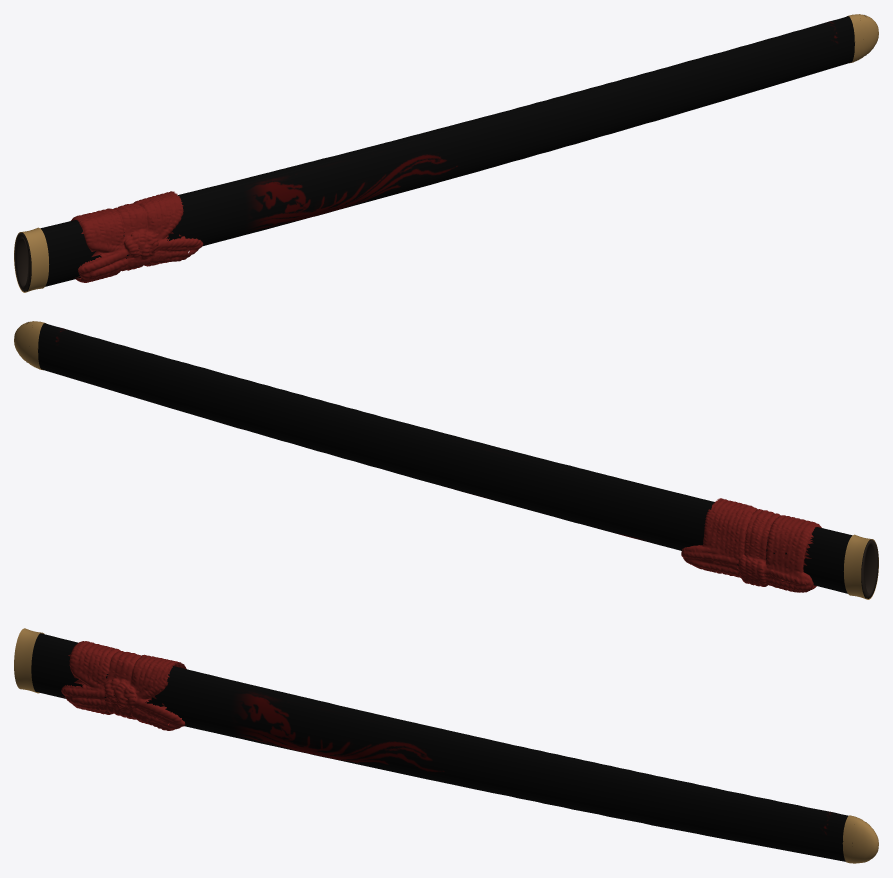
Rendered from ronin-saya-v03.glb.
The picture shows the model from 3 angles, top to bottom: view 1: azimuth 30°, elevation 25°; view 2: azimuth 150°, elevation 25°; view 3: azimuth 330°, elevation 25°; orthographic projection.
Parts seen in each view (by area): view 1: Saya v03 | smooth shell.007, Saya v03 | original cord.007, Saya v03 | mouth fitting.007, Saya v03 | tip fitting.007; view 2: Saya v03 | smooth shell.007, Saya v03 | original cord.007, Saya v03 | mouth fitting.007, Saya v03 | tip fitting.007; view 3: Saya v03 | smooth shell.007, Saya v03 | original cord.007, Saya v03 | tip fitting.007, Saya v03 | mouth fitting.007.
Boxes of the visible parts, x1,y1,x2,y2 form: Saya v03 | smooth shell.007: (14,15,866,291); Saya v03 | original cord.007: (71,191,203,282); Saya v03 | mouth fitting.007: (14,227,49,292); Saya v03 | tip fitting.007: (847,14,878,63); Saya v03 | smooth shell.007: (26,322,878,598); Saya v03 | original cord.007: (681,498,821,592); Saya v03 | mouth fitting.007: (843,534,878,599); Saya v03 | tip fitting.007: (14,321,45,370); Saya v03 | smooth shell.007: (31,633,866,862); Saya v03 | original cord.007: (61,641,186,730); Saya v03 | tip fitting.007: (842,815,878,863); Saya v03 | mouth fitting.007: (14,628,44,693).
Size of the model in its own units: 6.89 by 0.6099 by 0.3838.
4 materials, 1 textured.
